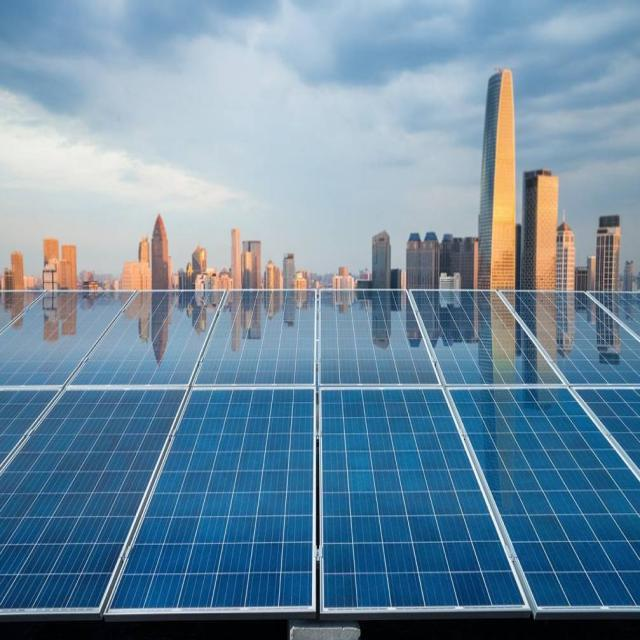clean-solar-panel: (1, 290, 640, 622)
